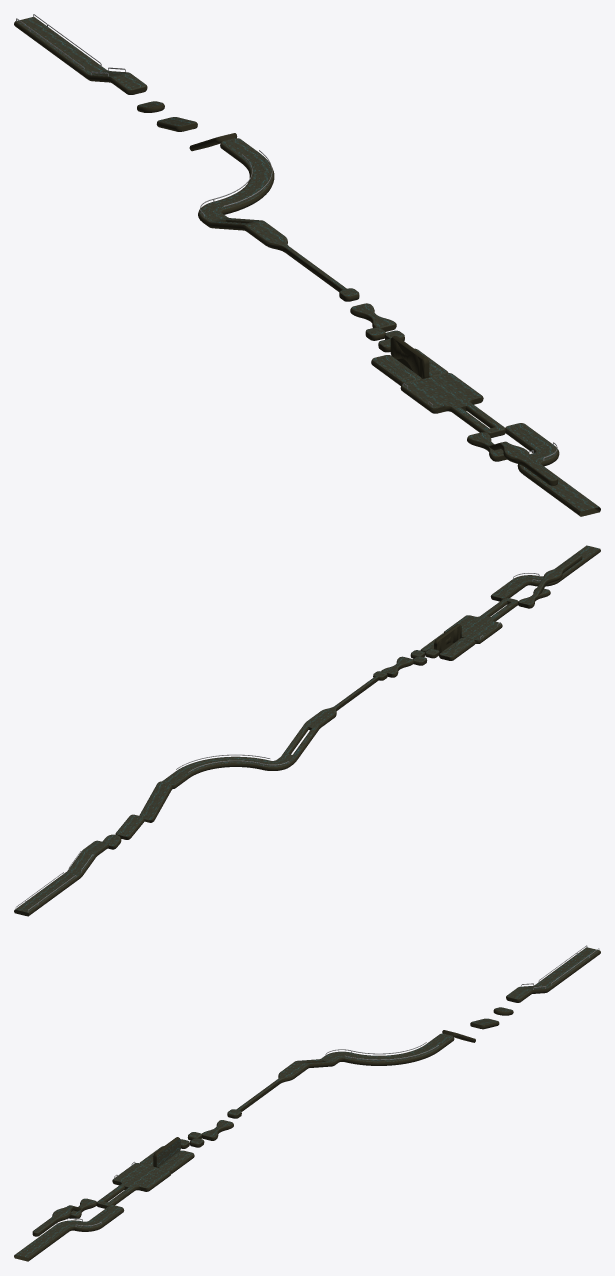
Rendered from map49.fbx.
3 renders of one model, top to bottom at view 1: azimuth 30°, elevation 25°; view 2: azimuth 150°, elevation 25°; view 3: azimuth 330°, elevation 25°, orthographic. The views are drawn at different scales.
Parts seen in each view (by area): view 1: Terrain_Flat_2, Dummy_Start_1; view 2: Dummy_Start_1, Terrain_Flat_2; view 3: Terrain_Flat_2, Dummy_Start_1.
Part boxes in pixels (x1=…): Terrain_Flat_2: x1=371, y1=336, x2=600, y2=516; Dummy_Start_1: x1=14, y1=14, x2=359, y2=301; Dummy_Start_1: x1=14, y1=671, x2=387, y2=916; Terrain_Flat_2: x1=420, y1=545, x2=600, y2=660; Terrain_Flat_2: x1=14, y1=1137, x2=194, y2=1261; Dummy_Start_1: x1=227, y1=945, x2=600, y2=1118.
Size of the model in its own units: 3562 by 1462 by 28381.
Materials: 6 (6 with a texture image).
